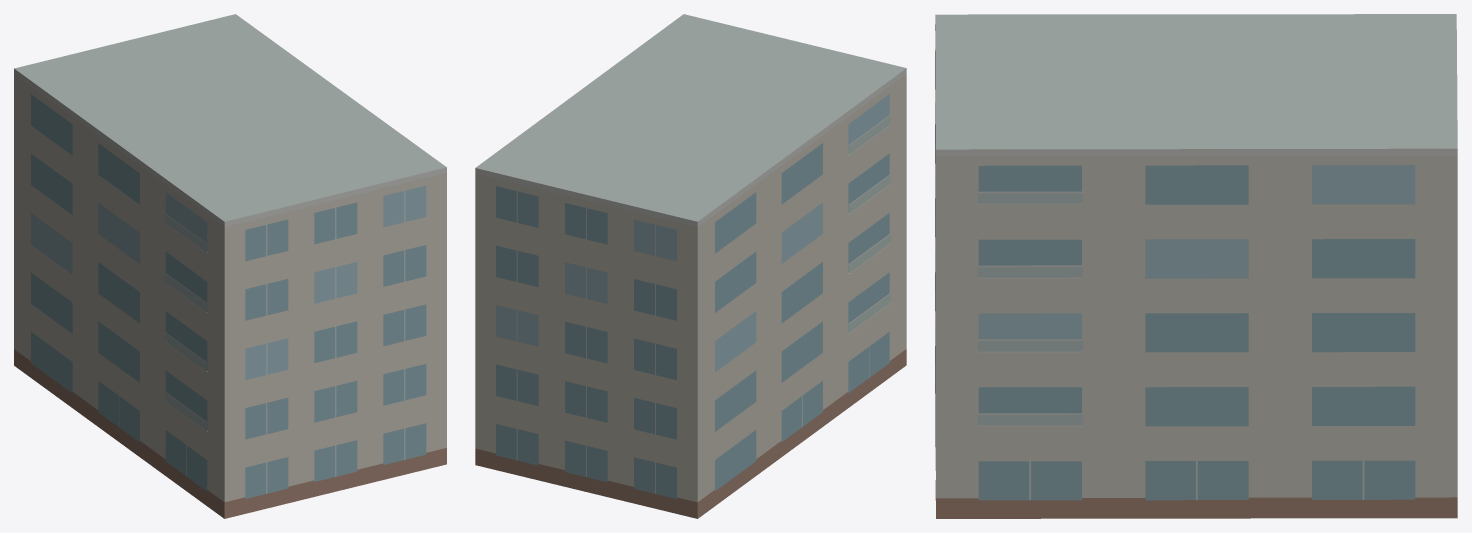
File: survey-upis-32701349.glb
3 views of the same model, side by side, from view 1: azimuth 30°, elevation 25°; view 2: azimuth 150°, elevation 25°; view 3: azimuth 270°, elevation 25° (orthographic). The views are drawn at different scales.
Parts seen in each view (by area): view 1: survey-upis-32701349.tmp; view 2: survey-upis-32701349.tmp; view 3: survey-upis-32701349.tmp.
Boxes of the visible parts, x1,y1,x2,y2 form: survey-upis-32701349.tmp: (14, 14, 446, 518); survey-upis-32701349.tmp: (475, 14, 906, 518); survey-upis-32701349.tmp: (935, 14, 1457, 518).
Bounding box in the file's own units: 10.43 × 13.2 × 16.93.
